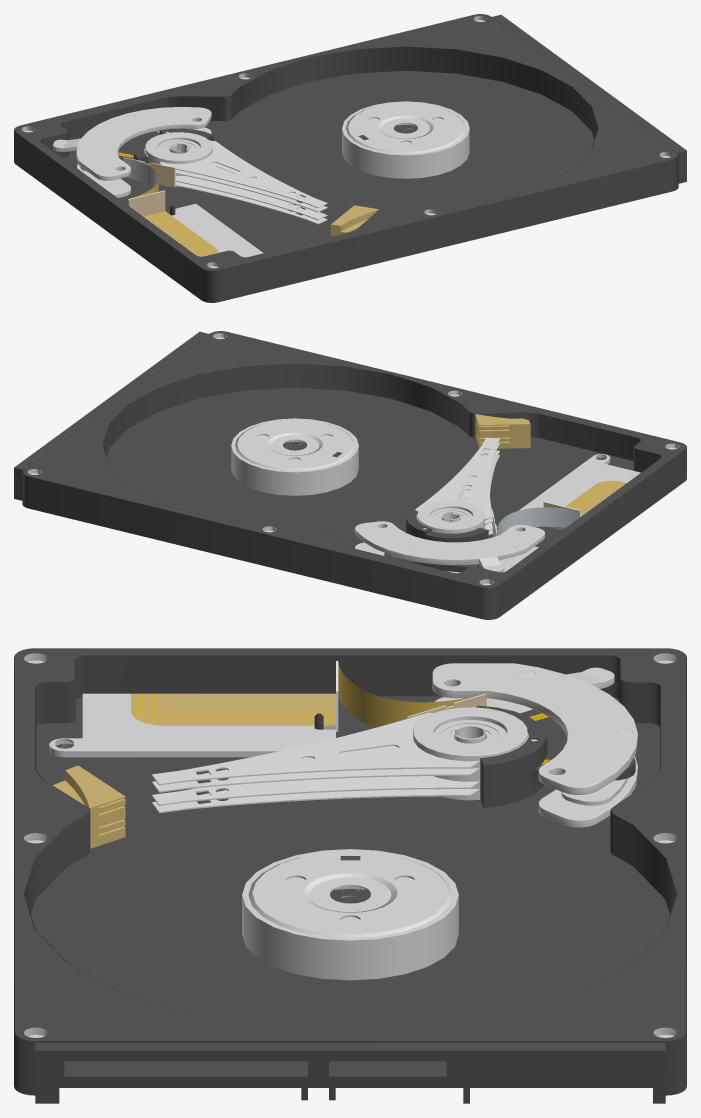
File: hdd.glb
3 views of the same model, one above another, from view 1: azimuth 30°, elevation 25°; view 2: azimuth 150°, elevation 25°; view 3: azimuth 270°, elevation 25° (orthographic). The views are drawn at different scales.
Visible parts, largest first — view 1: base, casing, arm, flex-gold, flex-tan, flex, actuator; view 2: base, casing, arm, flex-gold, actuator; view 3: base, casing, arm, flex-gold, flex.
Part boxes in pixels (left/top/right/bottom): base: left=14, top=14, right=686, bottom=302; casing: left=21, top=16, right=673, bottom=268; arm: left=159, top=140, right=327, bottom=224; flex-gold: left=130, top=180, right=379, bottom=256; flex-tan: left=129, top=159, right=174, bottom=216; flex: left=118, top=130, right=215, bottom=256; actuator: left=123, top=157, right=158, bottom=187; base: left=14, top=331, right=686, bottom=619; casing: left=27, top=333, right=679, bottom=585; arm: left=415, top=437, right=499, bottom=535; flex-gold: left=475, top=414, right=626, bottom=535; actuator: left=497, top=454, right=606, bottom=535; base: left=14, top=648, right=686, bottom=1103; casing: left=24, top=653, right=677, bottom=1037; arm: left=152, top=712, right=480, bottom=813; flex-gold: left=53, top=662, right=486, bottom=848; flex: left=134, top=664, right=550, bottom=764.
Bounding box in the file's own units: 428 × 28.84 × 303.
